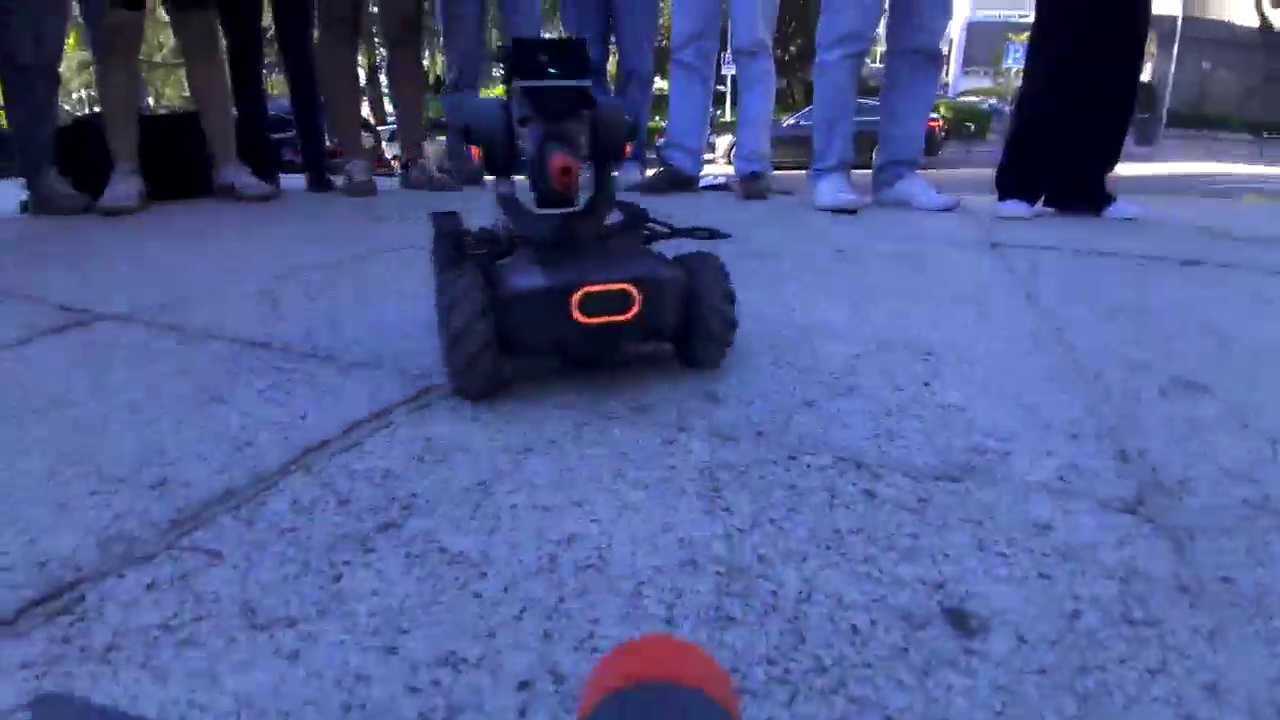robot: (399, 52, 746, 398)
